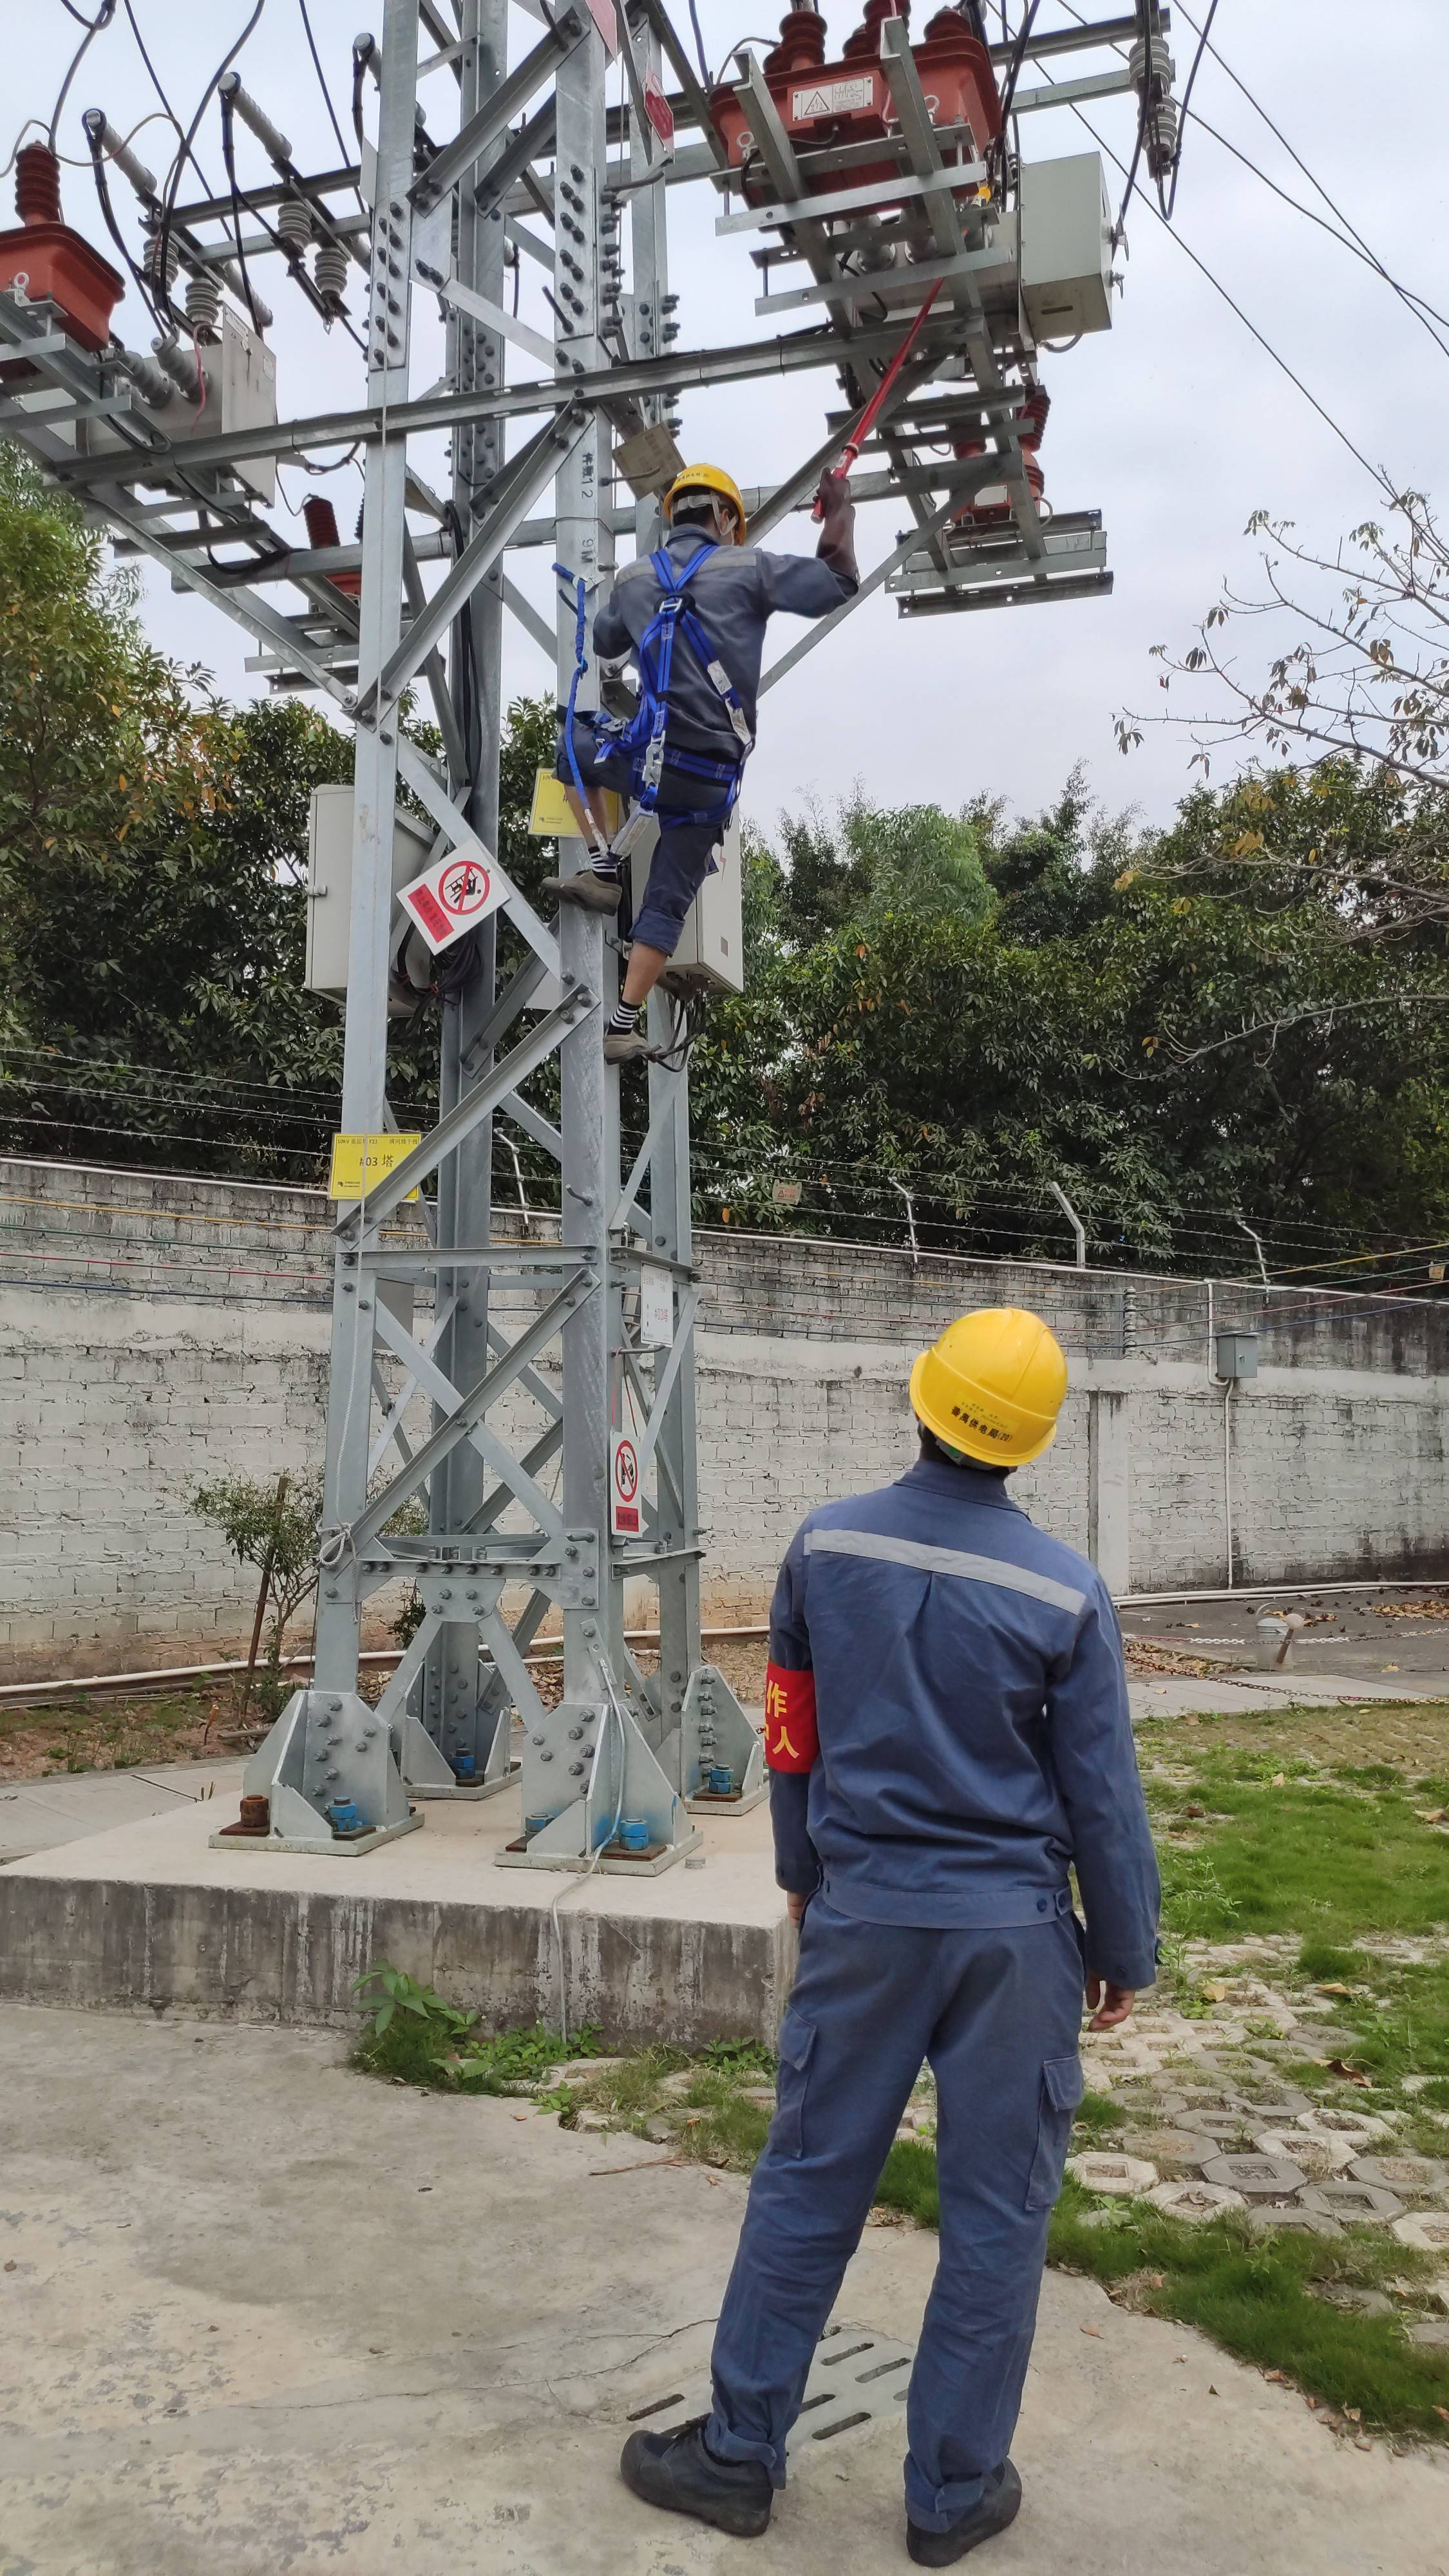downsuit: (699, 1948, 1090, 2496), (566, 732, 755, 961)
upsuit: (754, 1472, 1164, 1927), (596, 538, 846, 709)
wrongbottom: (617, 906, 688, 1016), (559, 748, 614, 853)
